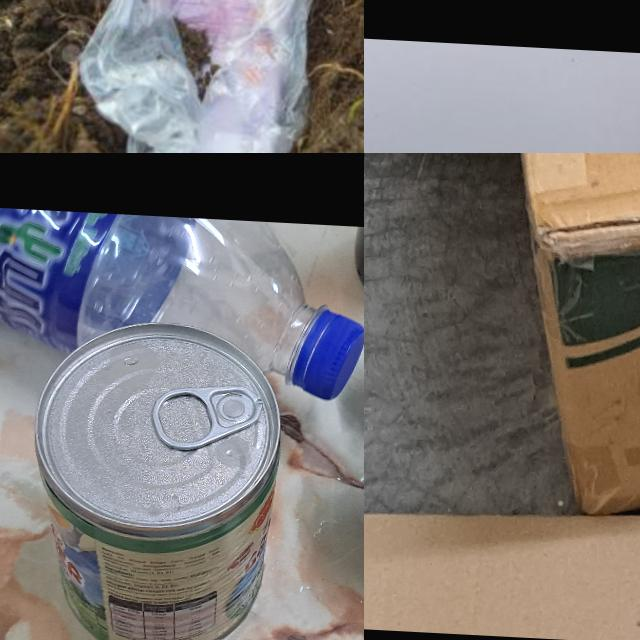aba de lata: (152, 383, 262, 453)
garrafa plástica: (0, 206, 313, 383)
lata: (22, 312, 288, 640)
papelão: (463, 153, 640, 527), (364, 486, 640, 640)
sacola plástica: (67, 0, 364, 153)
tampa plástica: (295, 304, 364, 402)
